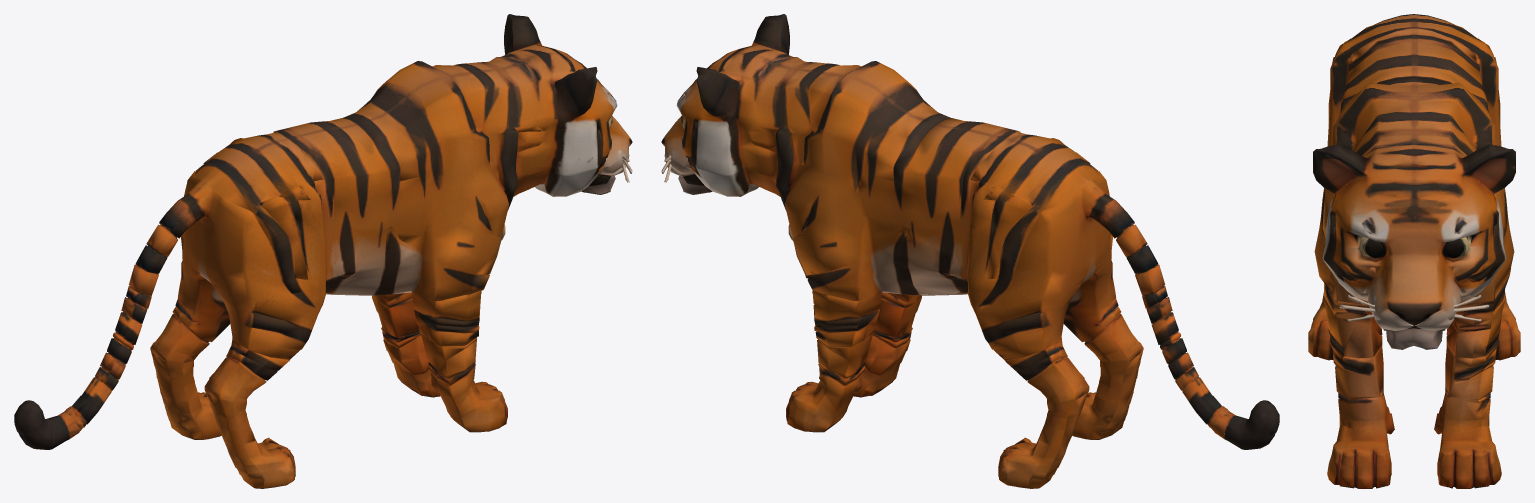
Rendered from tiger.glb.
The picture shows the model from 3 angles, left to right: view 1: azimuth 30°, elevation 25°; view 2: azimuth 150°, elevation 25°; view 3: azimuth 270°, elevation 25°; orthographic projection. The views are drawn at different scales.
Parts seen in each view (by area): view 1: tripo_node_aba2c5c0-42bc-4d10-b140-2992e73ae0e9; view 2: tripo_node_aba2c5c0-42bc-4d10-b140-2992e73ae0e9; view 3: tripo_node_aba2c5c0-42bc-4d10-b140-2992e73ae0e9.
Boxes of the visible parts, <box> form: tripo_node_aba2c5c0-42bc-4d10-b140-2992e73ae0e9: <box>14,14,632,488</box>; tripo_node_aba2c5c0-42bc-4d10-b140-2992e73ae0e9: <box>661,14,1279,488</box>; tripo_node_aba2c5c0-42bc-4d10-b140-2992e73ae0e9: <box>1308,14,1520,488</box>.
Bounding box in the file's own units: 1.04 × 0.55 × 0.276.
1 material, 1 textured.
